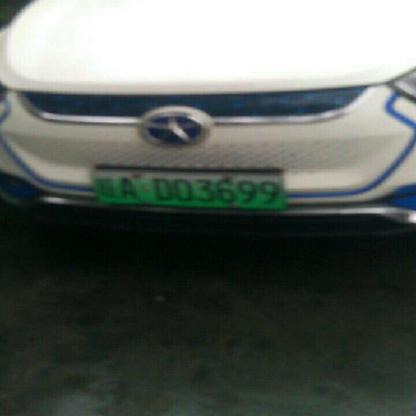lp: (92, 172, 284, 206)
